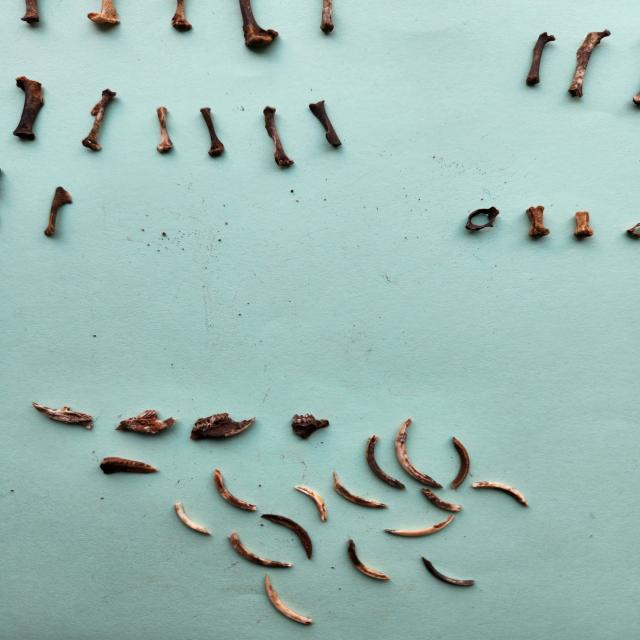fossil: (563, 23, 619, 107), (391, 416, 450, 490), (250, 101, 304, 173), (218, 528, 300, 574), (8, 72, 57, 145), (260, 572, 322, 627), (77, 85, 125, 156), (259, 510, 320, 562), (360, 431, 408, 493), (304, 97, 354, 156), (187, 406, 258, 447), (520, 28, 564, 92), (328, 468, 392, 512), (112, 406, 182, 446), (343, 536, 398, 584), (37, 183, 80, 244), (27, 397, 97, 434), (207, 466, 260, 514), (235, 0, 282, 54), (194, 102, 234, 164), (417, 553, 483, 590), (379, 512, 462, 540), (468, 477, 538, 510), (285, 408, 343, 446), (147, 100, 184, 159), (460, 199, 509, 240), (443, 432, 476, 490), (410, 485, 470, 515), (98, 454, 164, 481), (171, 499, 215, 538), (292, 483, 330, 525), (520, 202, 557, 242), (566, 208, 600, 245), (83, 0, 125, 28), (169, 0, 196, 35), (314, 0, 336, 39), (19, 0, 44, 27)
